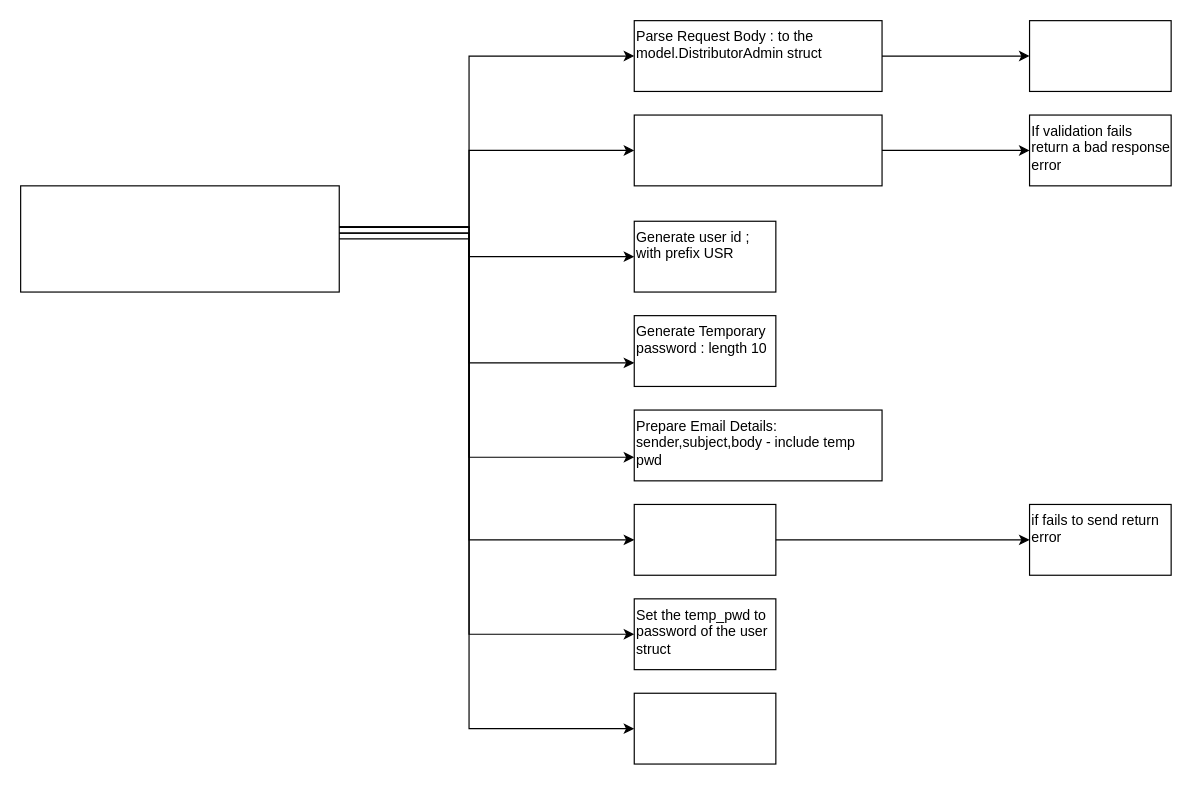
Image size: 1192x785. Some labels were removed from this diagram. Here are the shapes that lost their labels. From the top down, the centre of each, then its label:
At (x=1099, y=55): "return a bad request if parsing fails".
At (x=757, y=150): "Validate the user data : using the validator on model DistributorAdmin".
At (x=179, y=238): "Create DA POST - {BaseURL}/api/v1/distributor-admin".
At (x=704, y=539): "Send Email : call the send Email function".
